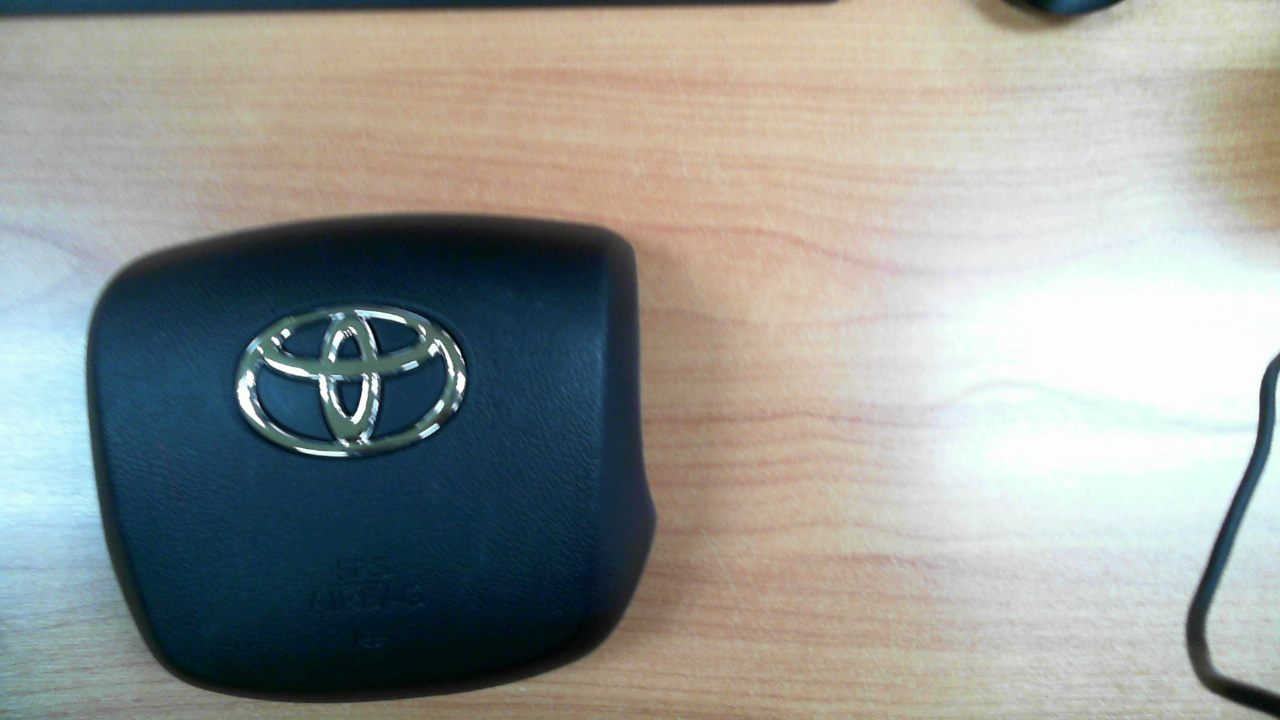Airbag: (86, 214, 660, 701)
Toyota: (236, 309, 467, 457)
